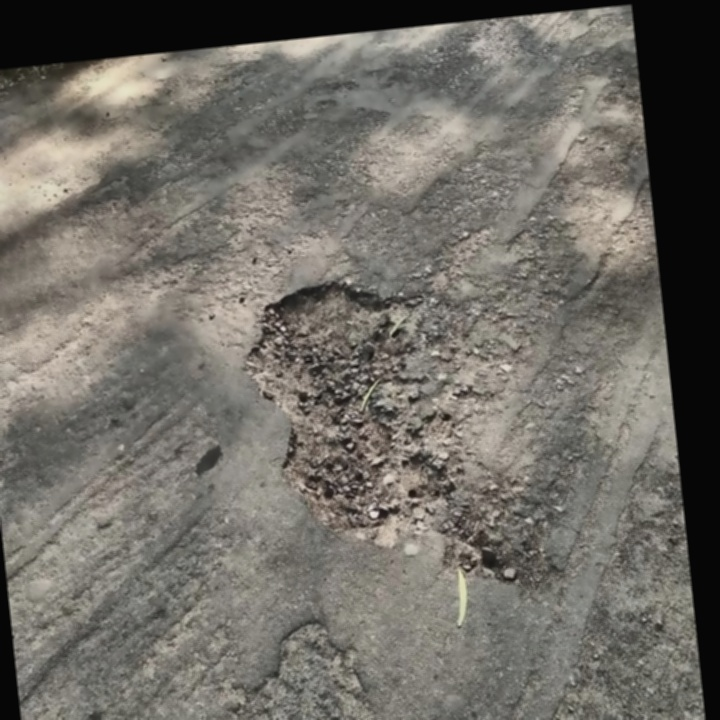pothole: (232, 268, 456, 561)
